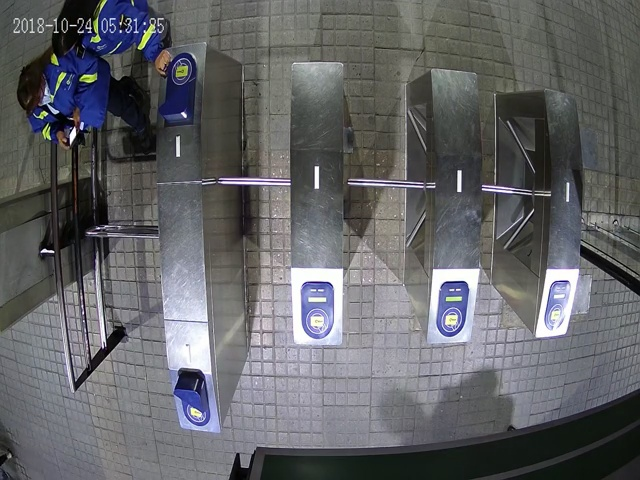Chaleco_azul: (15, 45, 150, 146), (50, 1, 172, 75)
